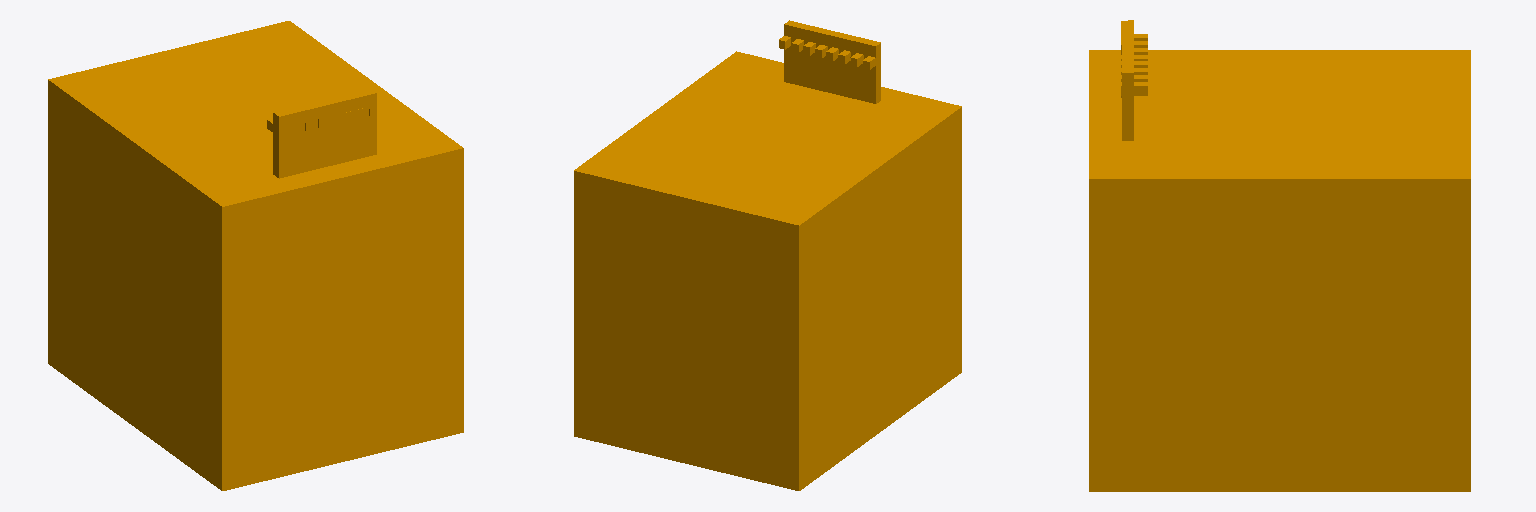
robot.urdf — holder:
<?xml version="1.0" ?>
<robot name="holder">
    <link name="holder">
        <visual>
            <origin xyz="0.0 -0.35 0.55" rpy="0 0 0" />
            <geometry>
                <mesh filename="holder.obj"/>
            </geometry>
        </visual>
        <visual>
            <origin xyz="0 0 0" rpy="0 0 0" />
            <geometry>
                <box size="0.8 1.0 0.9"/>
            </geometry>
        </visual>
        <collision>
            <origin xyz="0.0 -0.35 0.55" rpy="0 0 0" />
            <geometry>
                <mesh filename="holder.obj"/>
            </geometry>
        </collision>
        <collision>
            <origin xyz="0 0 0" rpy="0 0 0" />
            <geometry>
                <box size="0.8 1.0 0.9"/>
            </geometry>
        </collision>
    </link>
  </robot>

--- What the picture shows (computed from the rendered views, not written in the file) ---
The picture shows the robot from 3 angles, left to right: view 1: azimuth 30°, elevation 25°; view 2: azimuth 150°, elevation 25°; view 3: azimuth 270°, elevation 25°; orthographic projection.
Robot: holder — 1 links, 0 joints (none); root link holder; default pose: all joints at 0.
Links seen in each view (by area): view 1: holder; view 2: holder; view 3: holder.
Link boxes in pixels (x1,y1,x2,y2): holder: (48, 21, 463, 490); holder: (574, 20, 961, 490); holder: (1089, 20, 1470, 491).
Size in the robot's own frame: 0.8 by 1 by 1.1 metres.
Meshes: 1 distinct files referenced, 1 mesh visuals loaded (1 OBJ).